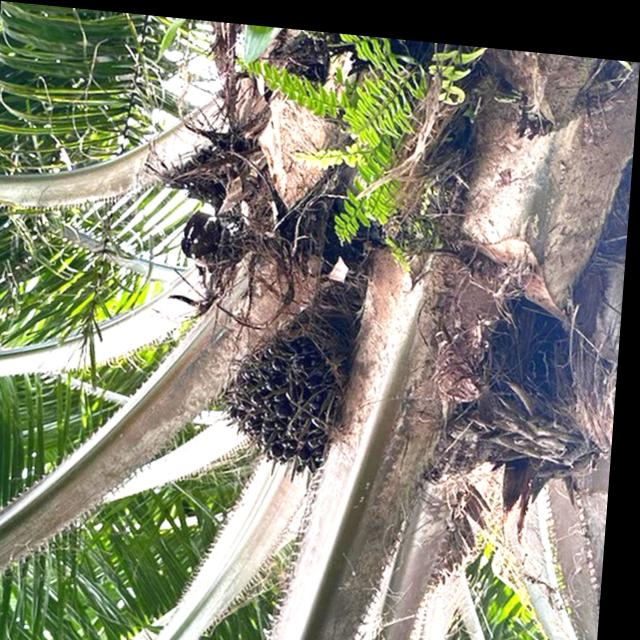almost: (212, 309, 356, 484)
